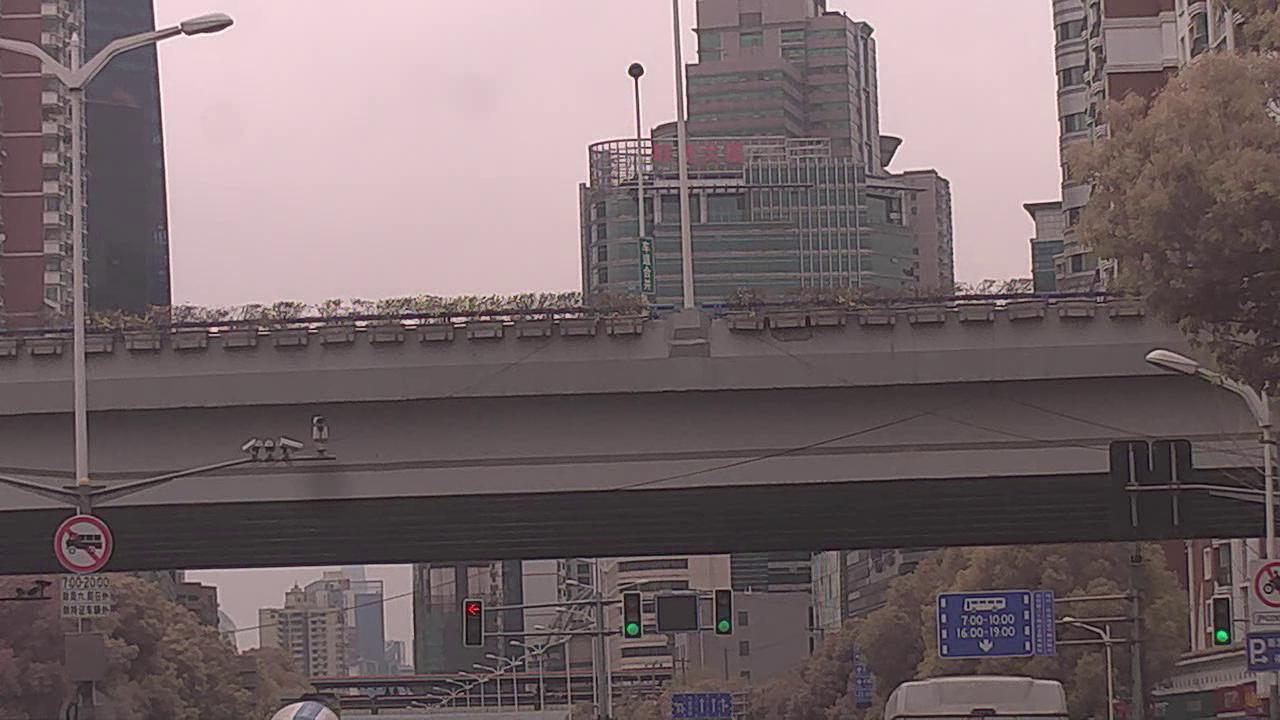traffic_light: (714, 587, 736, 635), (1213, 597, 1235, 643), (465, 599, 486, 647), (624, 592, 643, 638)
